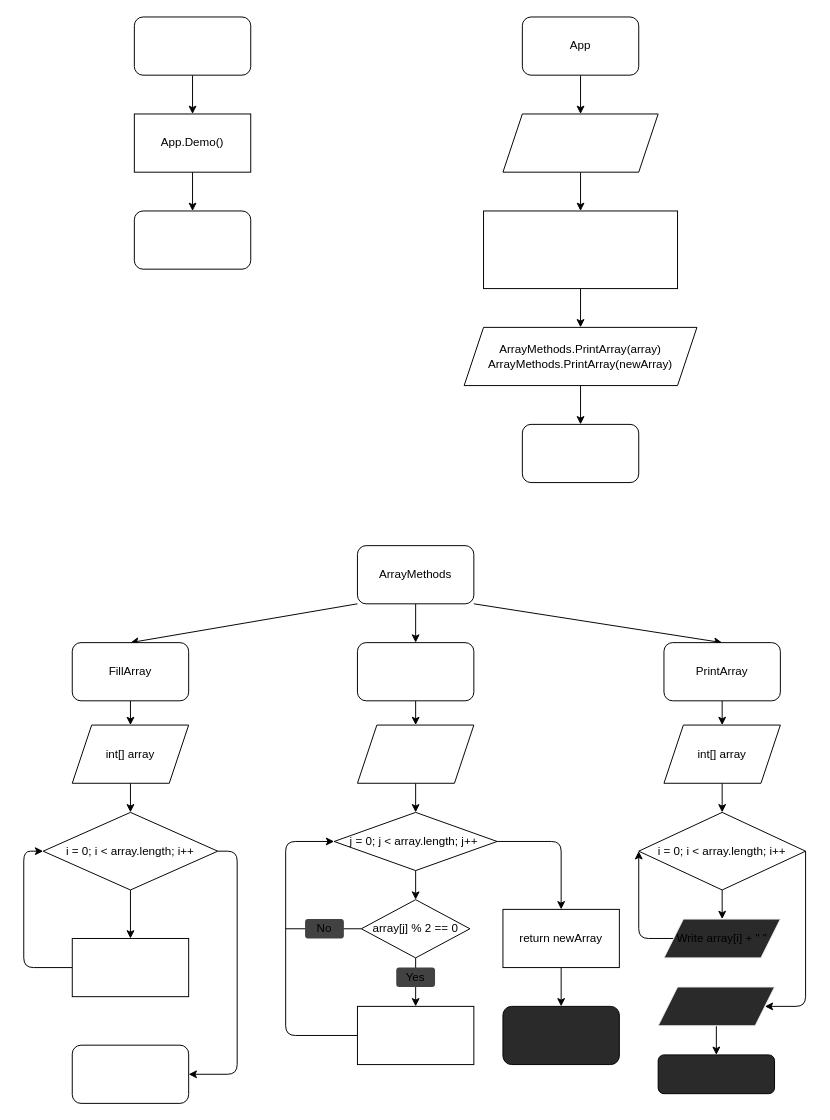
This 830x1120 diagram has some shape labels left out. The shapes that lost their labels are listed below. From the top down, each one's centre as x and y in pixels, then its label:
point 192,45: Program
point 580,142: int[] array int[] newArray
point 580,249: ArrayMethods.FillArray(array) newArray = ArrayMethods.ResizeArray(array)
point 415,671: ResizeArray
point 415,753: int[] array int[] newArray i = 0
point 130,967: array[i] = Random
point 716,1006: WriteLine
point 415,1035: newArray.length++ newArray[i] = array[j] i++
